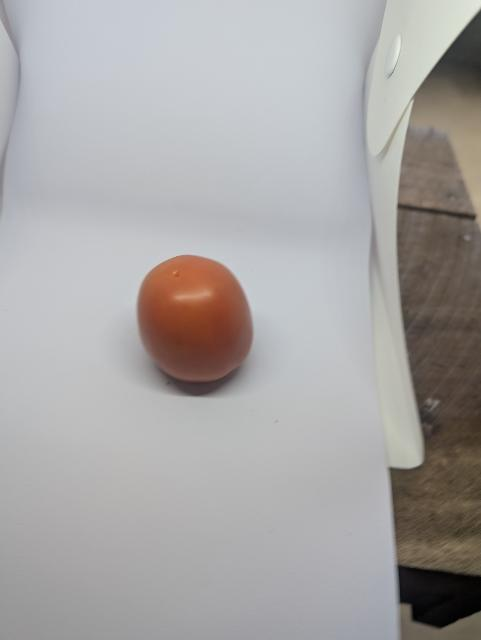red: (130, 253, 269, 400)
